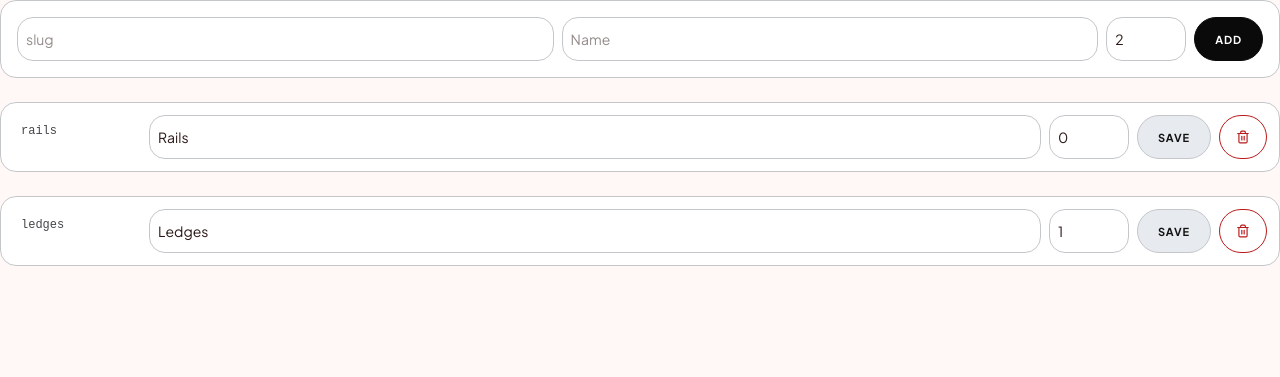
Test: SpotTypesSection › adds a new spot type
The image size is (1280, 377).
In the field named "New spot type slug": (285, 39) left=17, top=17, right=554, bottom=61, type "stairs"
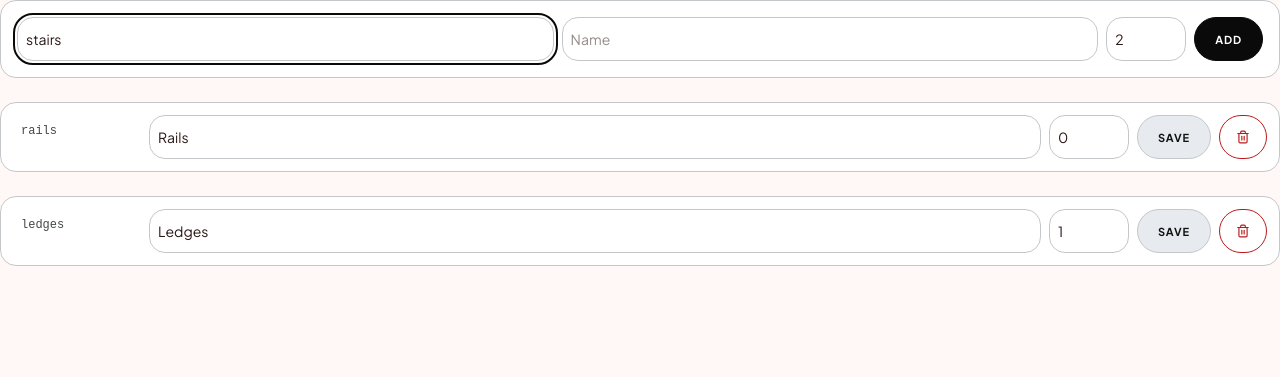
In the field named "New spot type name": (830, 39) left=562, top=17, right=1098, bottom=61, type "Stairs"
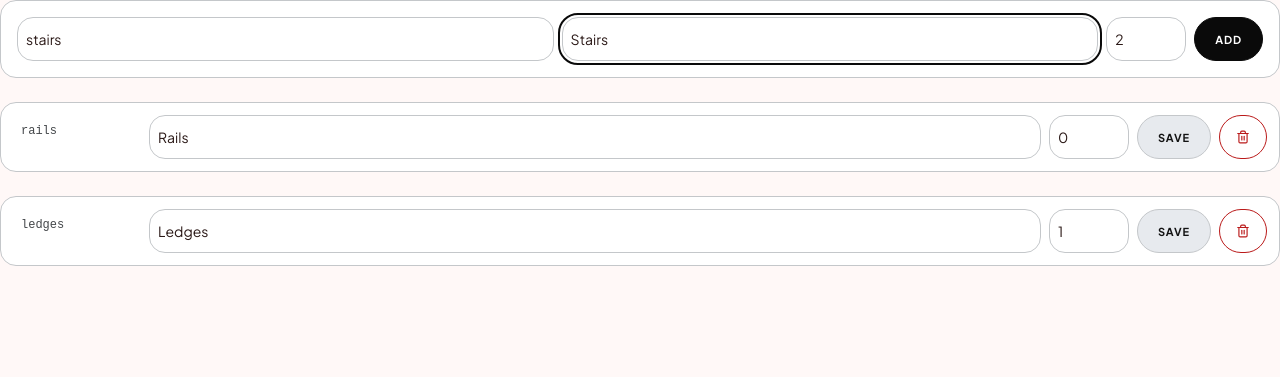
Click the button "Add": (1229, 39) left=1194, top=17, right=1263, bottom=61
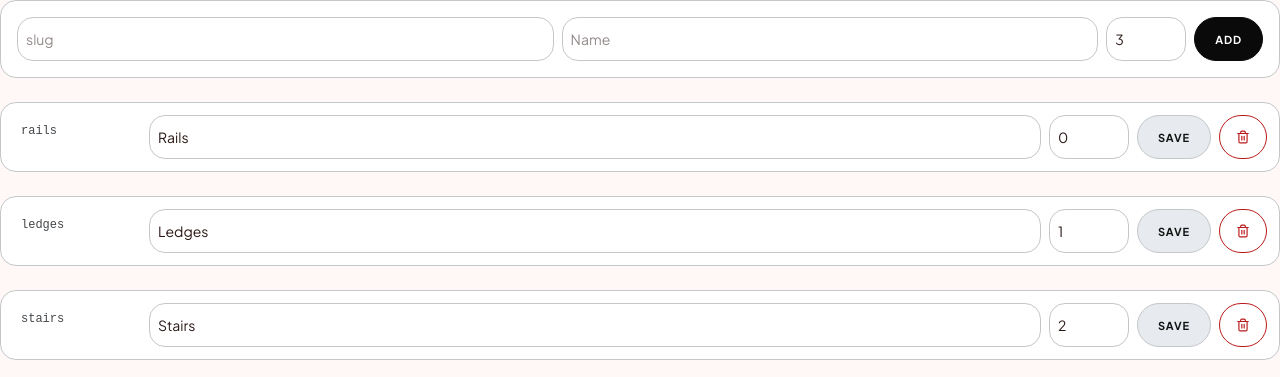
Now the field showing "Stairs" is shown, box left=149, top=303, right=1041, bottom=347
